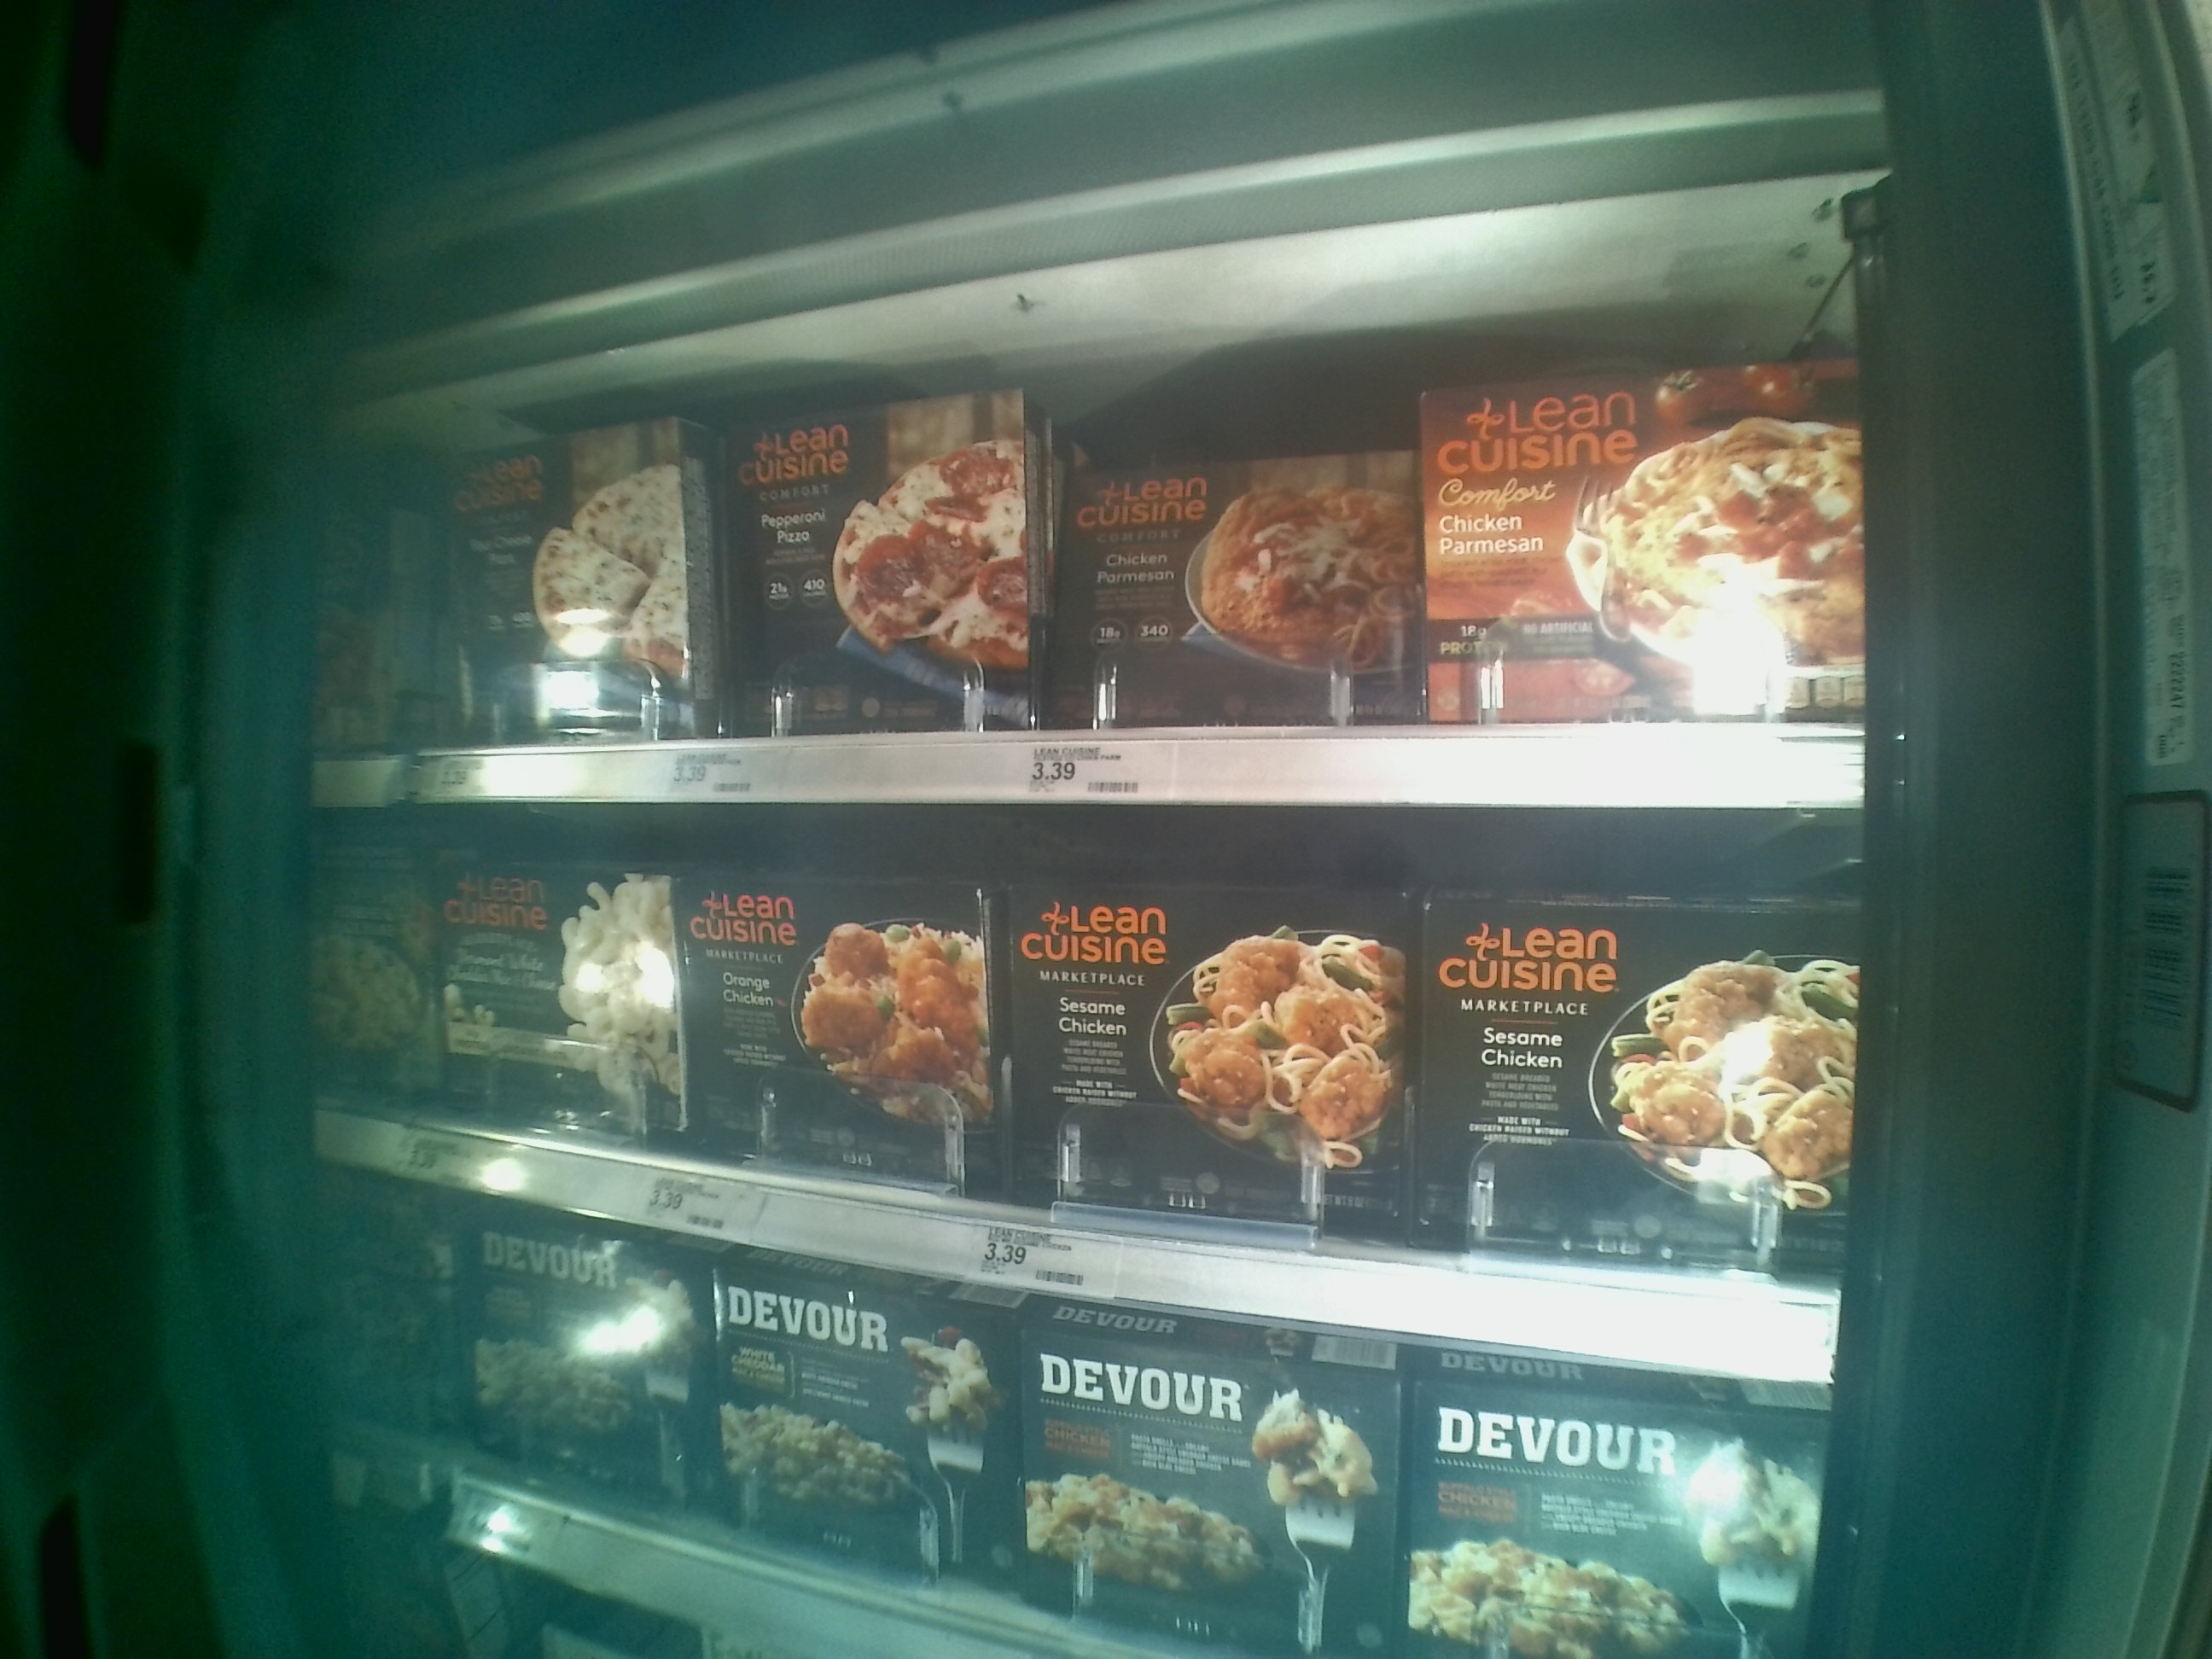dog: (1395, 904, 1862, 1244), (1416, 364, 1857, 706), (1003, 868, 1390, 1225), (1021, 1316, 1393, 1654), (711, 380, 1043, 727), (681, 857, 1000, 1182), (1057, 436, 1421, 713), (416, 420, 691, 732), (711, 1279, 981, 1577), (428, 854, 698, 1131), (475, 1236, 697, 1516)
